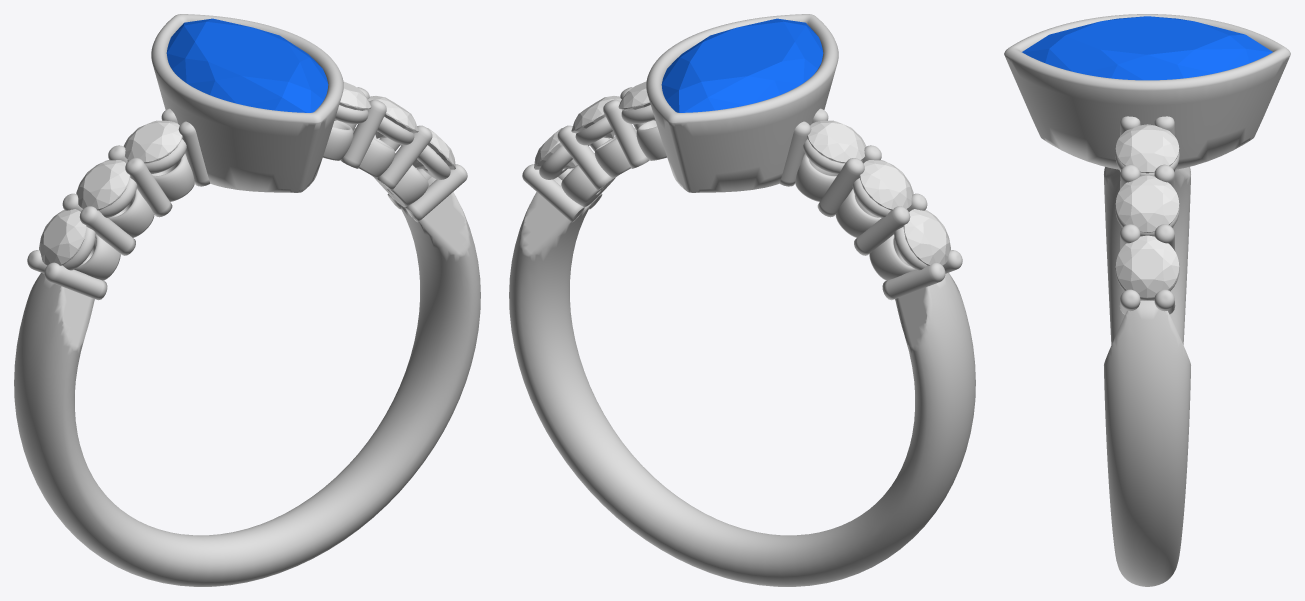
File: bluesapphire-marquise-platinum-bezelset-taperedband-7stone.glb
3 views of the same model, side by side, from view 1: azimuth 30°, elevation 25°; view 2: azimuth 150°, elevation 25°; view 3: azimuth 270°, elevation 25° (orthographic).
Parts seen in each view (by area): view 1: metal.002, stone.001, dia.002, dia.015, dia.016, dia.018, dia.019; view 2: metal.002, stone.001, dia.002, dia.015, dia.016, dia.018, dia.019; view 3: metal.002, stone.001, dia.017, dia.018, dia.019.
Part boxes in pixels (x1,y1,x2,y2): metal.002: [14, 14, 480, 586]; stone.001: [166, 18, 328, 112]; dia.002: [39, 209, 86, 265]; dia.015: [76, 160, 130, 210]; dia.016: [123, 120, 182, 163]; dia.018: [368, 96, 418, 138]; dia.019: [334, 81, 371, 120]; metal.002: [509, 14, 975, 586]; stone.001: [661, 18, 823, 112]; dia.002: [903, 209, 950, 265]; dia.015: [859, 160, 913, 210]; dia.016: [807, 120, 866, 163]; dia.018: [571, 96, 621, 138]; dia.019: [618, 81, 655, 120]; metal.002: [1004, 14, 1290, 586]; stone.001: [1022, 16, 1272, 80]; dia.017: [1115, 235, 1179, 297]; dia.018: [1115, 175, 1179, 232]; dia.019: [1115, 124, 1179, 173].
Bounding box in the file's own units: 20.5 × 22.92 × 11.31.
